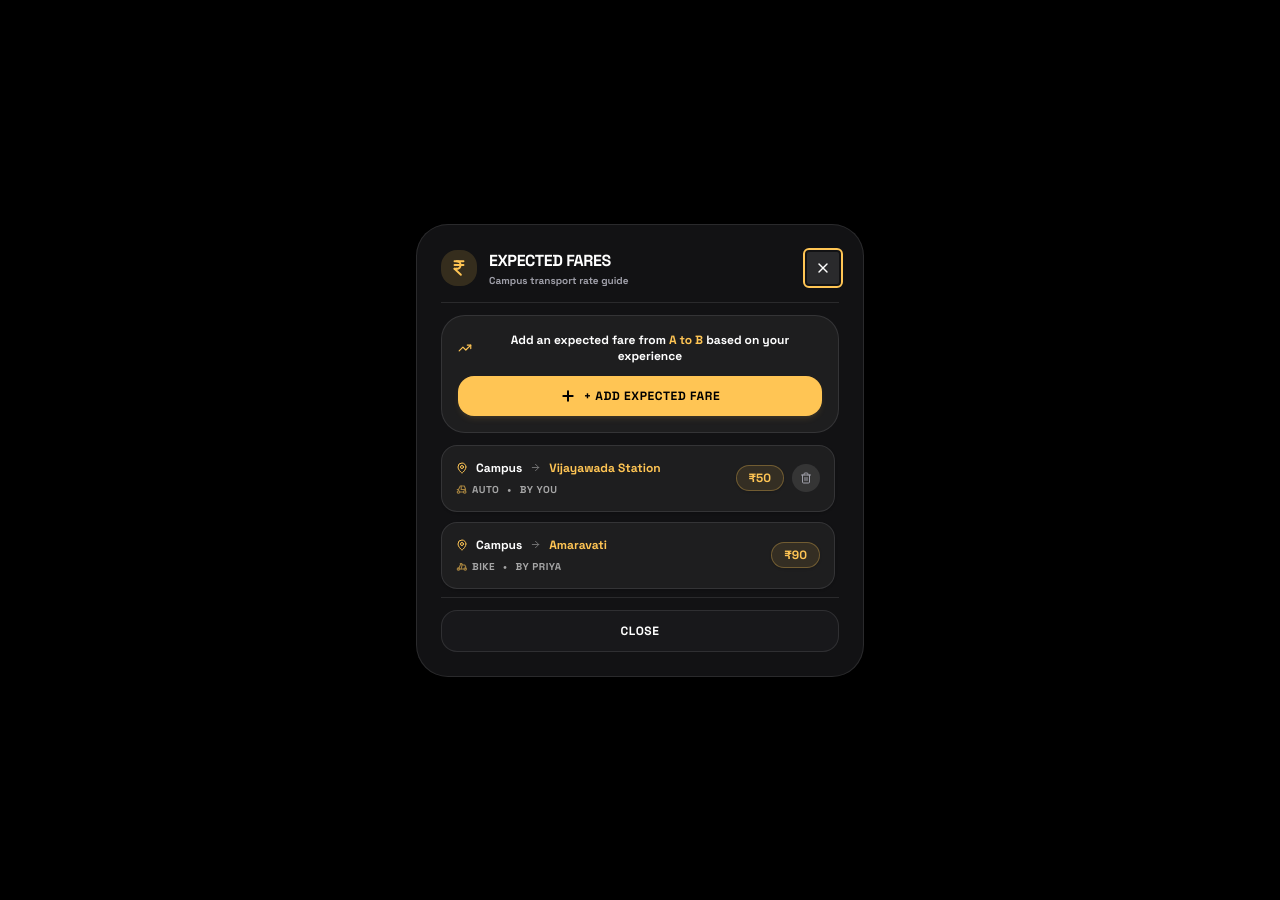
it: ExpectedFaresModal › creates a fare entry, prepends it, and returns to the list
Expected: the text "Vijayawada Station" is shown, [549, 460, 661, 476]
Step 1. Click the button "+ Add Expected Fare" → coordinates (640, 396), box [458, 376, 822, 416]
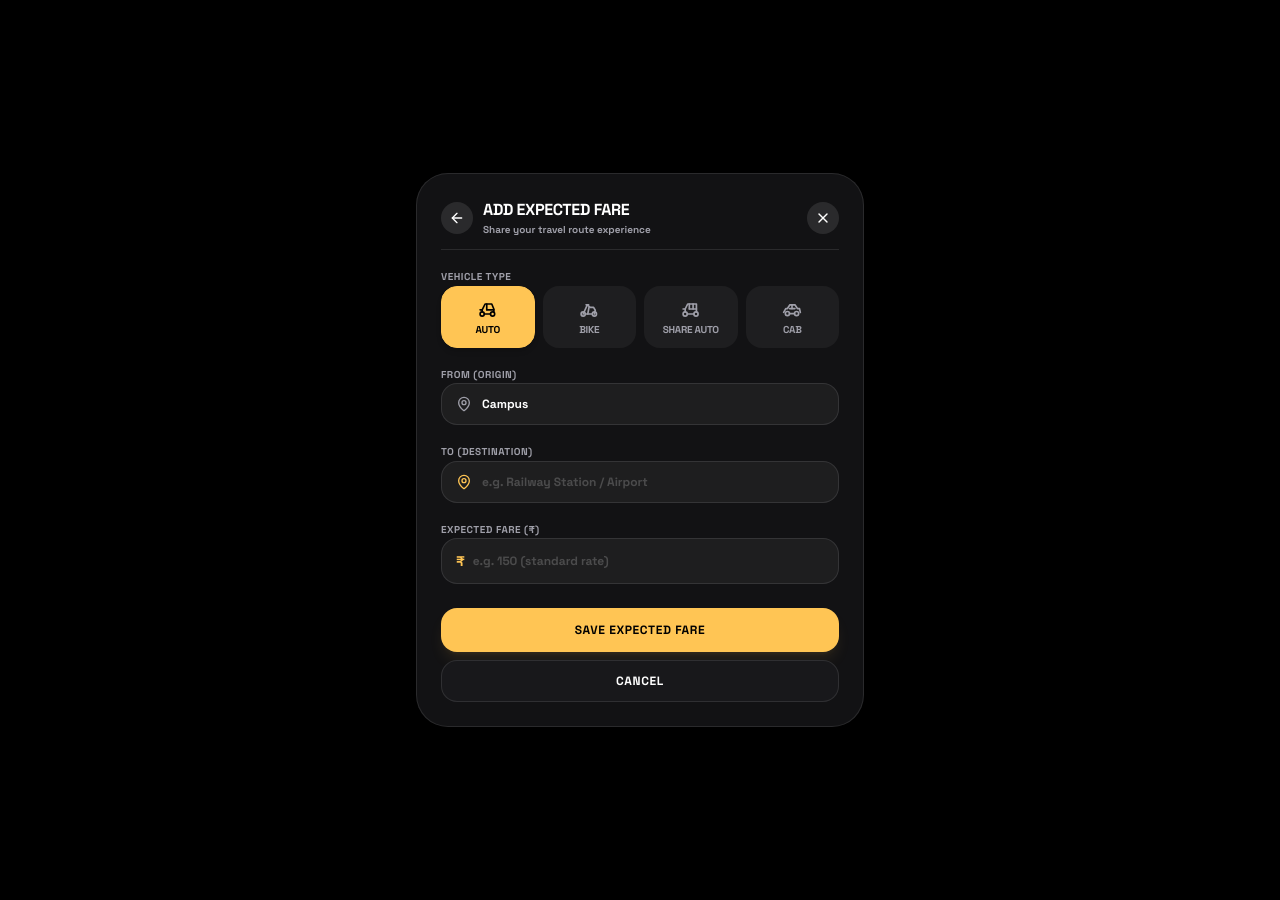
Step 2. Click the button "Bike" → coordinates (589, 316), box [542, 286, 636, 348]
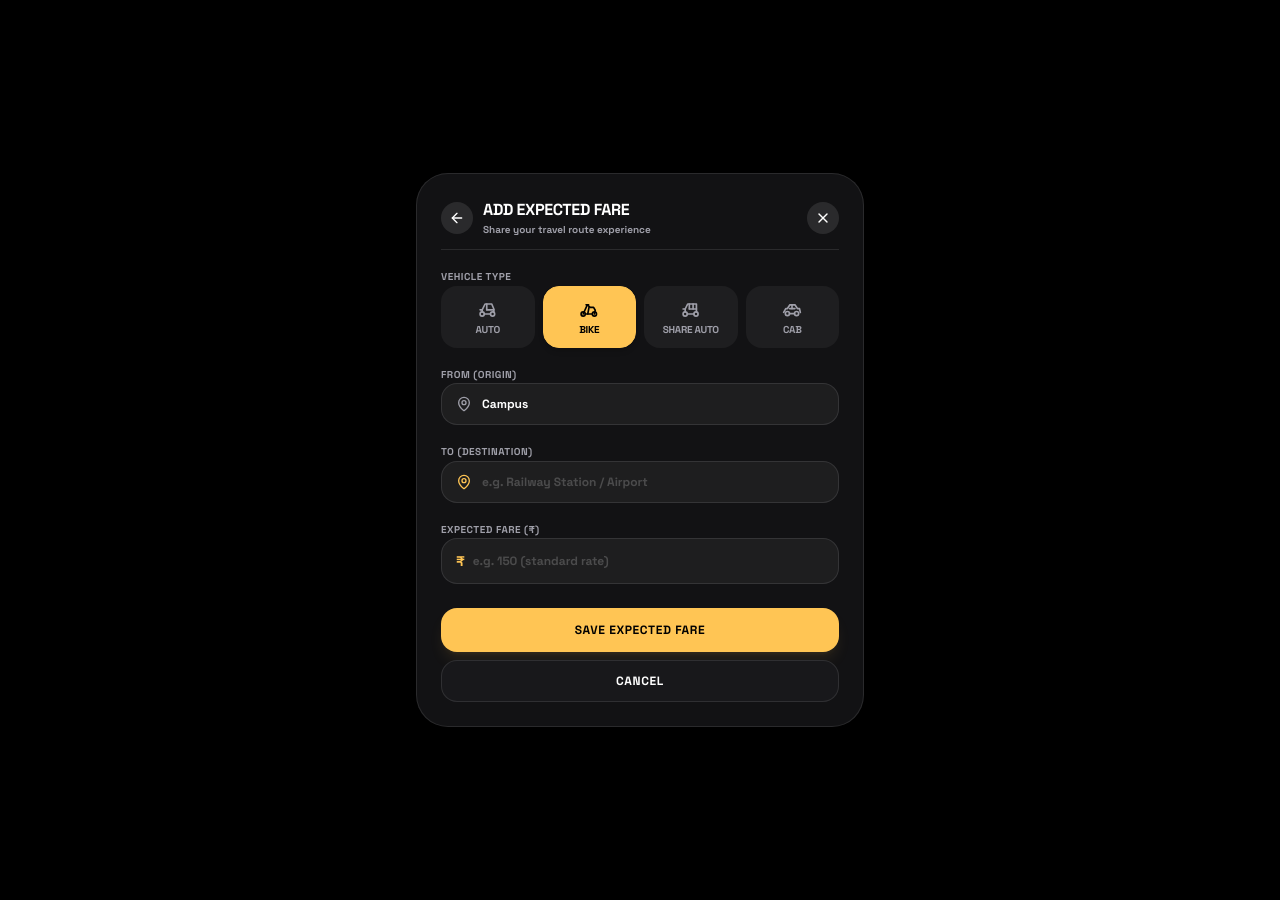
Step 3. Type "Amaravati" into the field with placeholder "e.g. Railway Station / Airport" → coordinates (653, 482), box [482, 474, 824, 490]
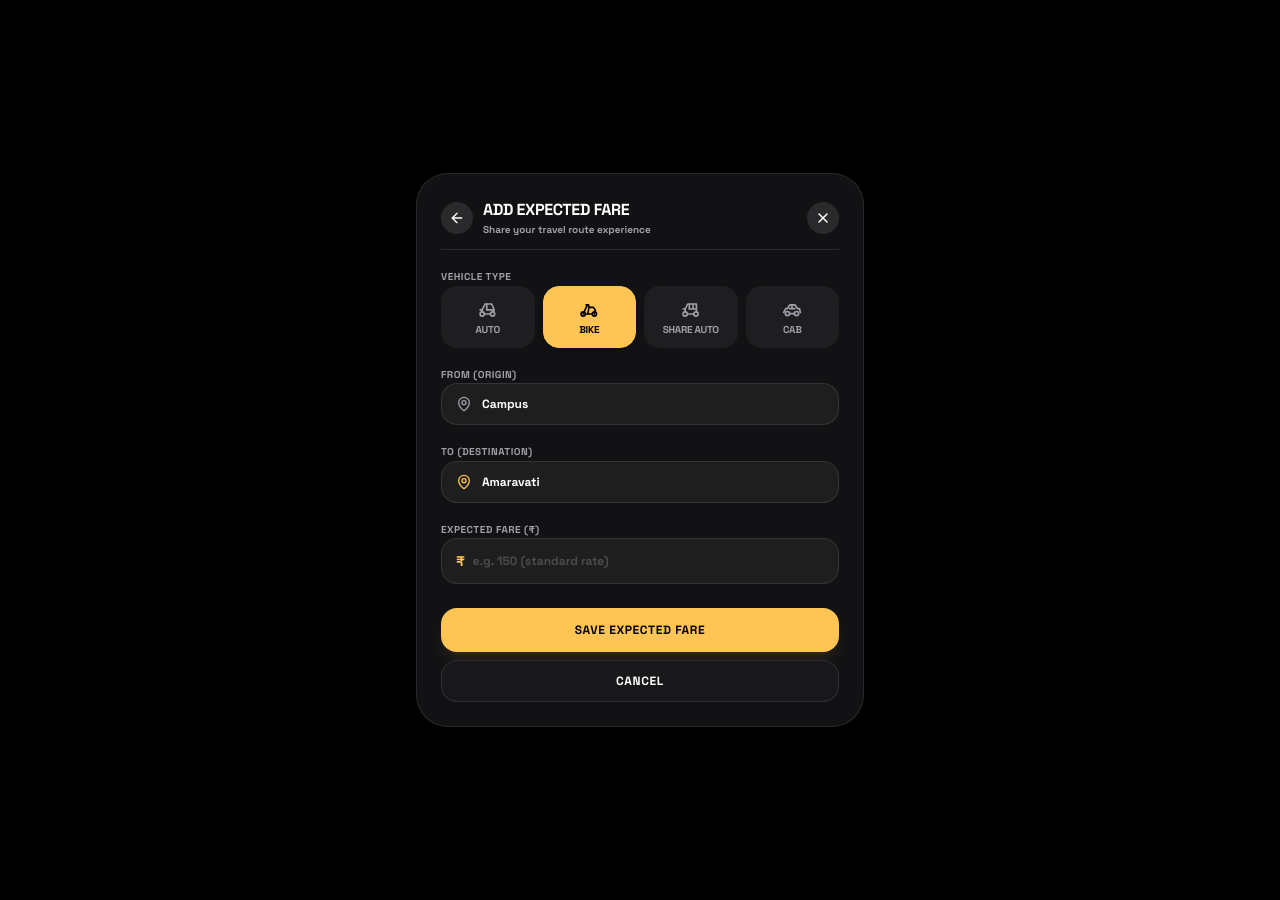
Step 4. Type "60" into the number field with placeholder "e.g. 150 (standard rate)" → coordinates (648, 561), box [473, 553, 824, 569]
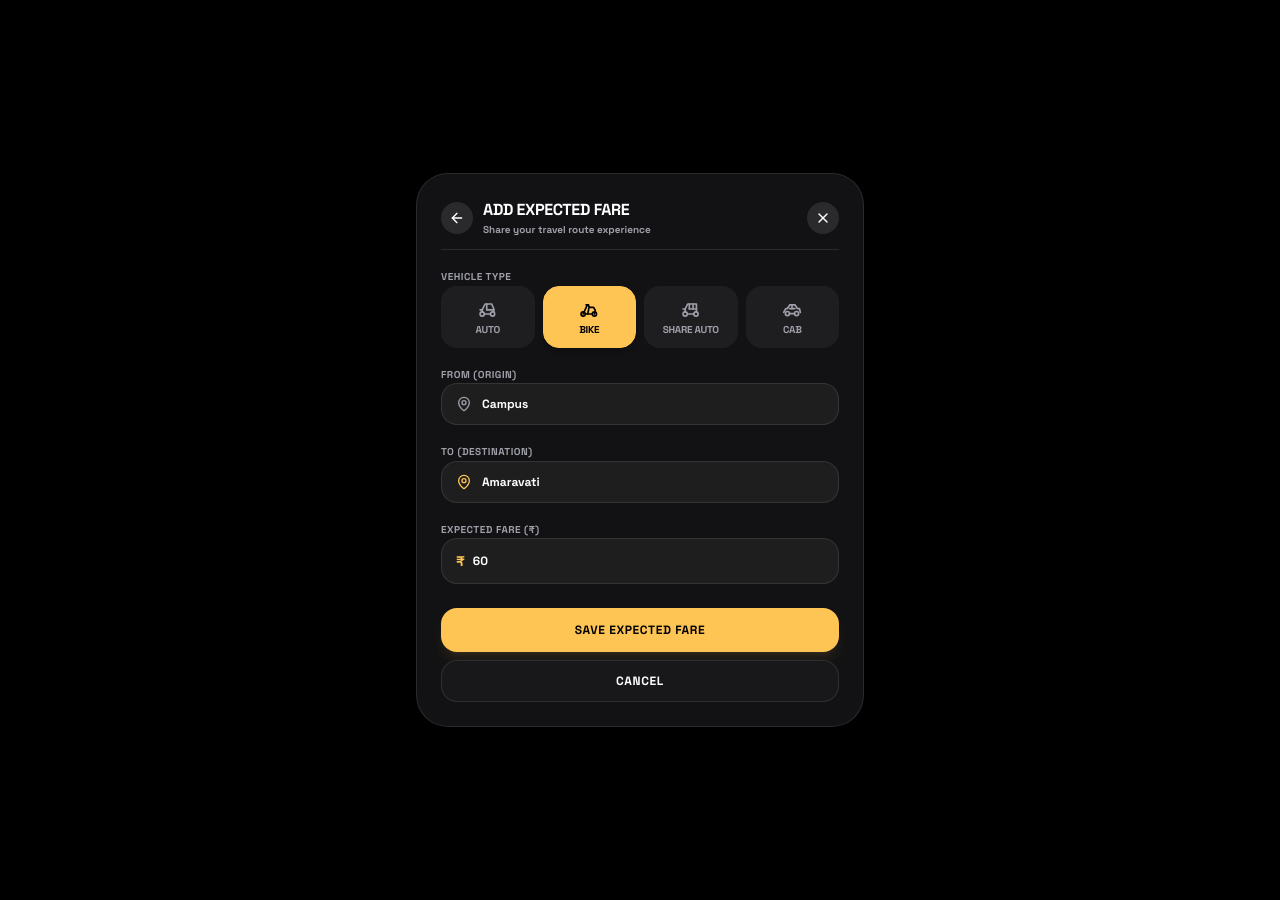
Step 5. Click the button "Save Expected Fare" → coordinates (640, 630), box [441, 608, 839, 652]
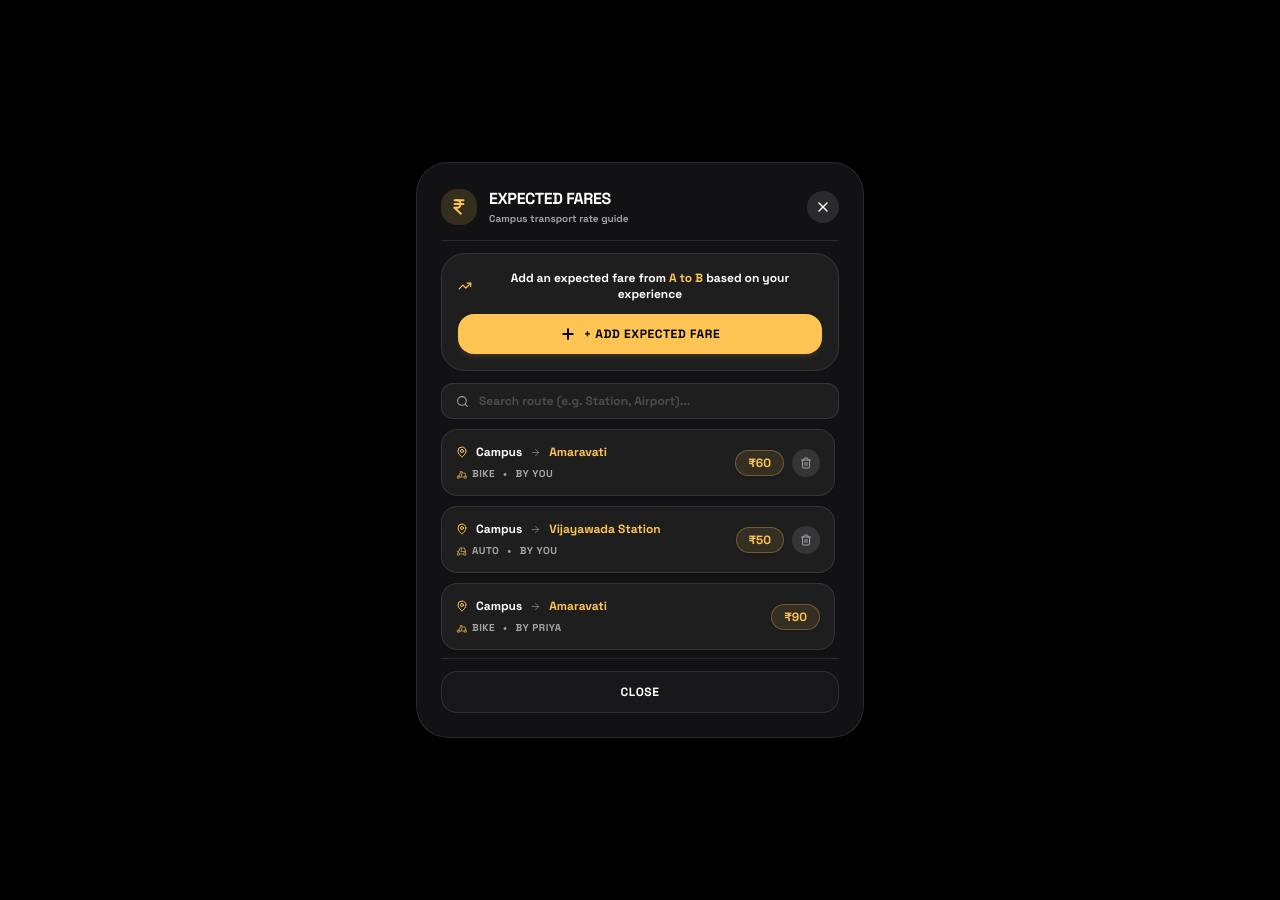
Expected: the text "₹60" is shown, [735, 450, 784, 476]
